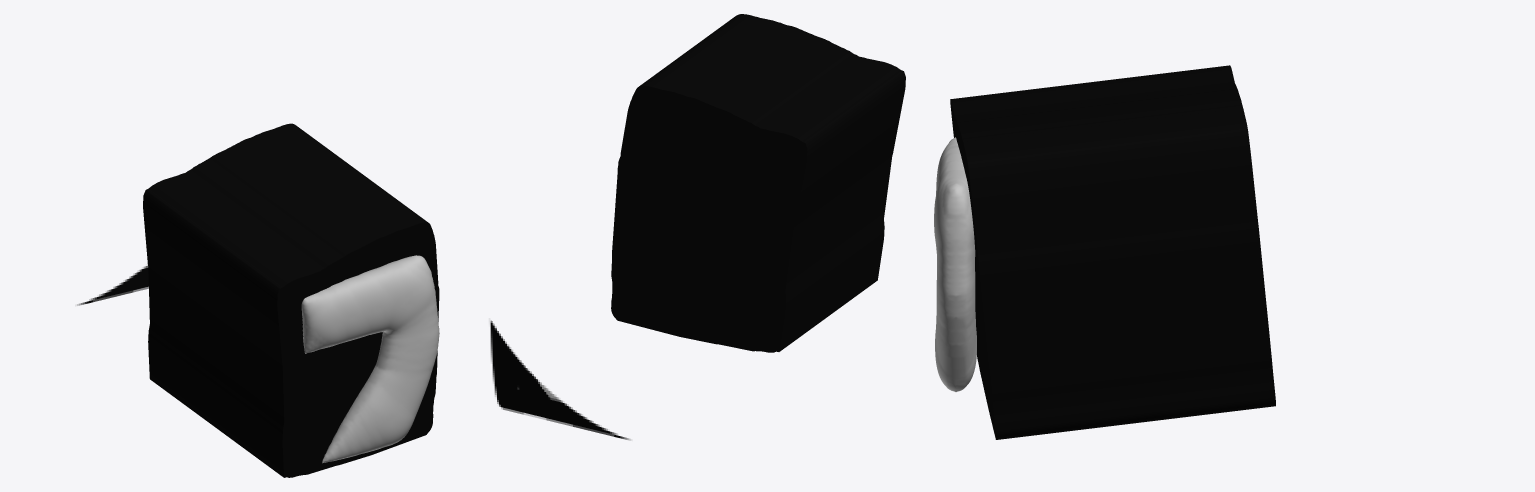
Rendered from num7.glb.
3 renders of one model, left to right at view 1: azimuth 30°, elevation 25°; view 2: azimuth 150°, elevation 25°; view 3: azimuth 270°, elevation 25°, orthographic. The views are drawn at different scales.
Visible parts, largest first — view 1: mesh_id38, mesh_id26, mesh_id1; view 2: mesh_id38, mesh_id1; view 3: mesh_id38, mesh_id26.
Boxes of the visible parts, x1,y1,x2,y2 form: mesh_id38: (143, 123, 439, 477); mesh_id26: (301, 255, 439, 463); mesh_id1: (77, 264, 148, 305); mesh_id38: (611, 14, 905, 352); mesh_id1: (490, 320, 630, 439); mesh_id38: (950, 65, 1275, 439); mesh_id26: (934, 137, 976, 391).
Bounding box in the file's own units: 0.11 × 0.13 × 0.2078.
Materials: 3 (3 with a texture image).
